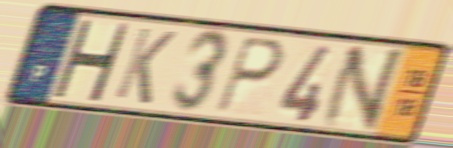3: (167, 24, 232, 119)
4: (274, 40, 333, 126)
H: (49, 16, 133, 104)
K: (110, 24, 180, 108)
N: (315, 45, 412, 134)
P: (213, 33, 287, 116)
